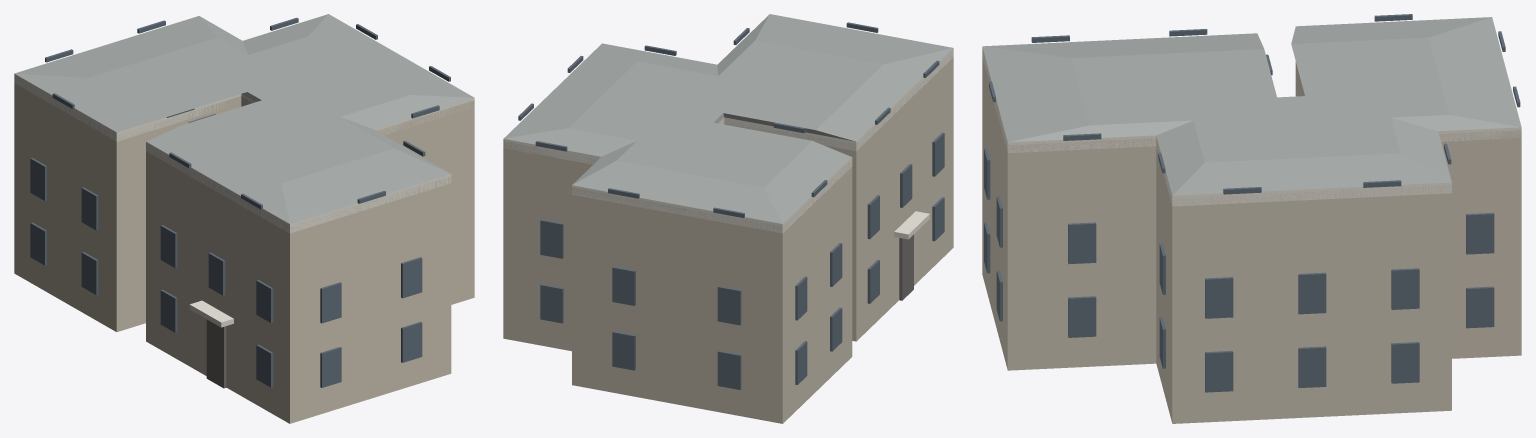
3 renders of one model, left to right at view 1: azimuth 30°, elevation 25°; view 2: azimuth 150°, elevation 25°; view 3: azimuth 270°, elevation 25°, orthographic. The views are drawn at different scales.
Parts seen in each view (by area): view 1: mass, roofcap, cornice, door150, win_7_5.4_0, win_7_5.4_1, win_7_2.2_0, win_7_2.2_1, win_2_2.2_1, win_2_5.4_1, win_6_2.2_0, win_6_5.4_0 (+6 smaller); view 2: mass, roofcap, cornice, win_1_5.4_1, win_1_2.2_1, door150, win_1_5.4_0, win_11_2.2_0, win_1_2.2_0, win_11_5.4_0, hood150, win_2_2.2_1 (+8 smaller); view 3: mass, roofcap, cornice, win_0_2.2_0, win_8_5.4_0, win_10_5.4_1, win_10_5.4_2, win_10_2.2_2, win_0_5.4_0, win_8_2.2_0, win_10_2.2_0, win_10_2.2_1 (+1 smaller).
Part boxes in pixels (x1,y1,x2,y2): mass: (14, 82, 474, 423); roofcap: (14, 14, 474, 223); cornice: (14, 74, 474, 233); door150: (206, 319, 226, 388); win_7_5.4_0: (320, 282, 341, 323); win_7_5.4_1: (401, 257, 422, 298); win_7_2.2_0: (320, 347, 341, 387); win_7_2.2_1: (401, 321, 422, 362); win_2_2.2_1: (81, 252, 98, 294); win_2_5.4_1: (81, 187, 98, 230); win_6_2.2_0: (160, 289, 177, 332); win_6_5.4_0: (160, 225, 177, 268); mass: (503, 55, 953, 423); roofcap: (503, 14, 952, 223); cornice: (503, 48, 953, 233); win_1_5.4_1: (717, 286, 741, 325); win_1_2.2_1: (717, 350, 741, 389); door150: (899, 234, 913, 300); win_1_5.4_0: (612, 266, 635, 305); win_11_2.2_0: (540, 284, 563, 323); win_1_2.2_0: (612, 331, 635, 370); win_11_5.4_0: (540, 219, 563, 258); hood150: (894, 211, 929, 239); win_2_2.2_1: (830, 307, 842, 351); mass: (982, 52, 1521, 423); roofcap: (982, 17, 1521, 195); cornice: (982, 47, 1521, 206); win_0_2.2_0: (1466, 286, 1494, 328); win_8_5.4_0: (1068, 222, 1096, 264); win_10_5.4_1: (1298, 272, 1326, 314); win_10_5.4_2: (1391, 268, 1419, 309); win_10_2.2_2: (1391, 342, 1419, 383); win_0_5.4_0: (1466, 212, 1494, 254); win_8_2.2_0: (1068, 296, 1096, 337); win_10_2.2_0: (1205, 351, 1233, 392); win_10_2.2_1: (1298, 346, 1326, 387).
Size of the model in its own units: 16.62 by 10.13 by 21.2.
